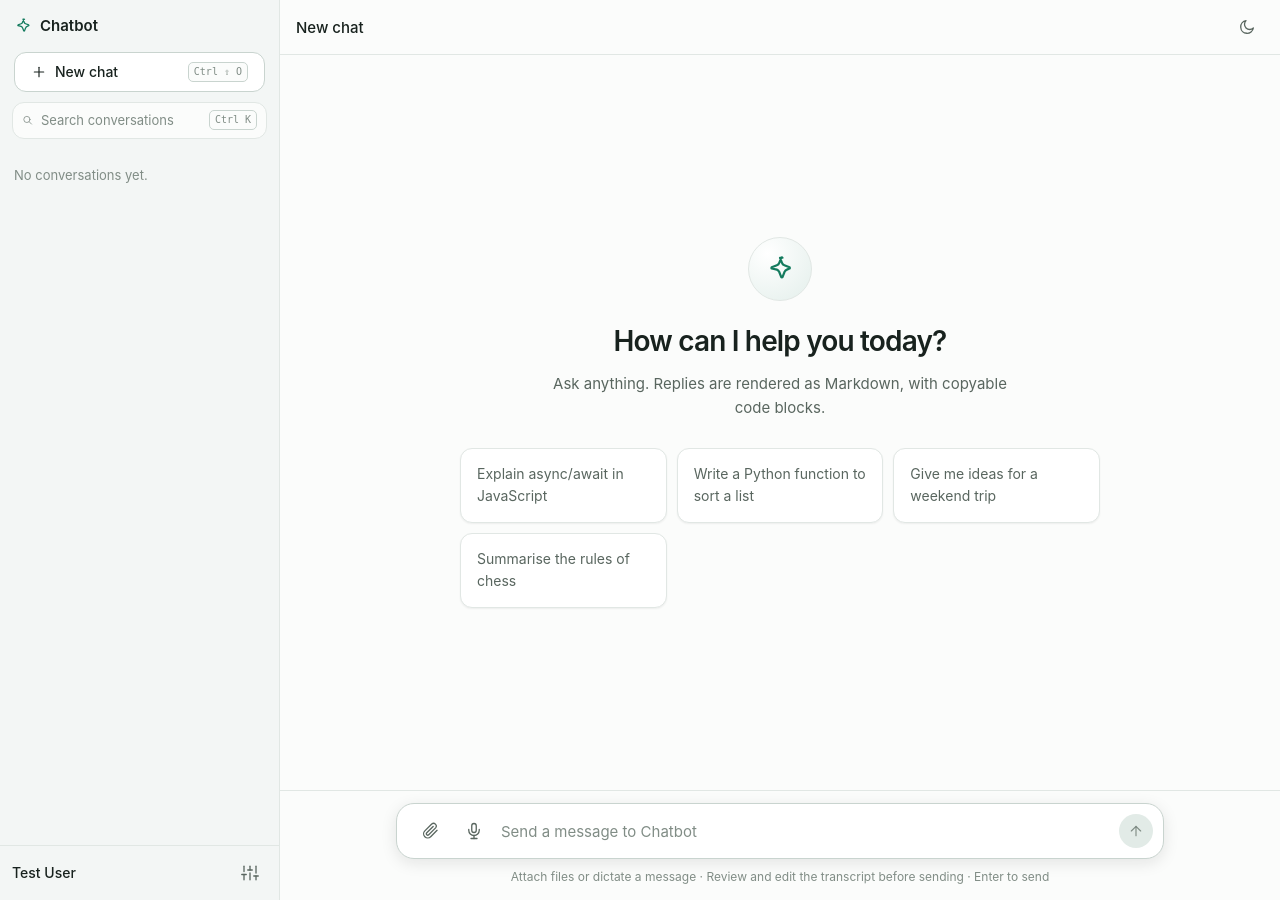
App › surfaces a backend error instead of inventing a reply
This screenshot has width=1280, height=900.
Type "How are you?" into the text box labelled "message" at (805, 832), box x1=501 y1=817 x2=1109 y2=848
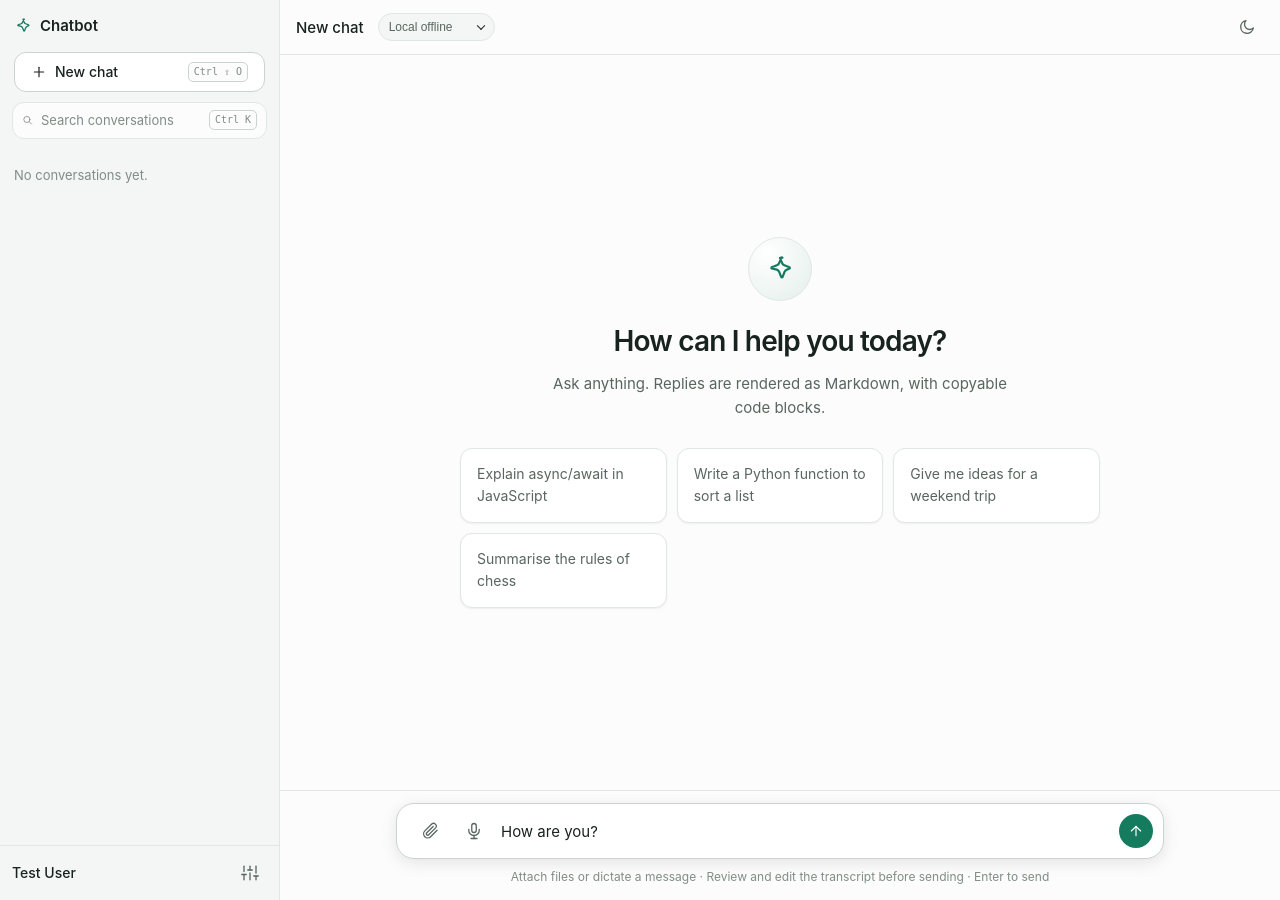
Click the button named "send" at (1136, 831), box x1=1119 y1=814 x2=1153 y2=848
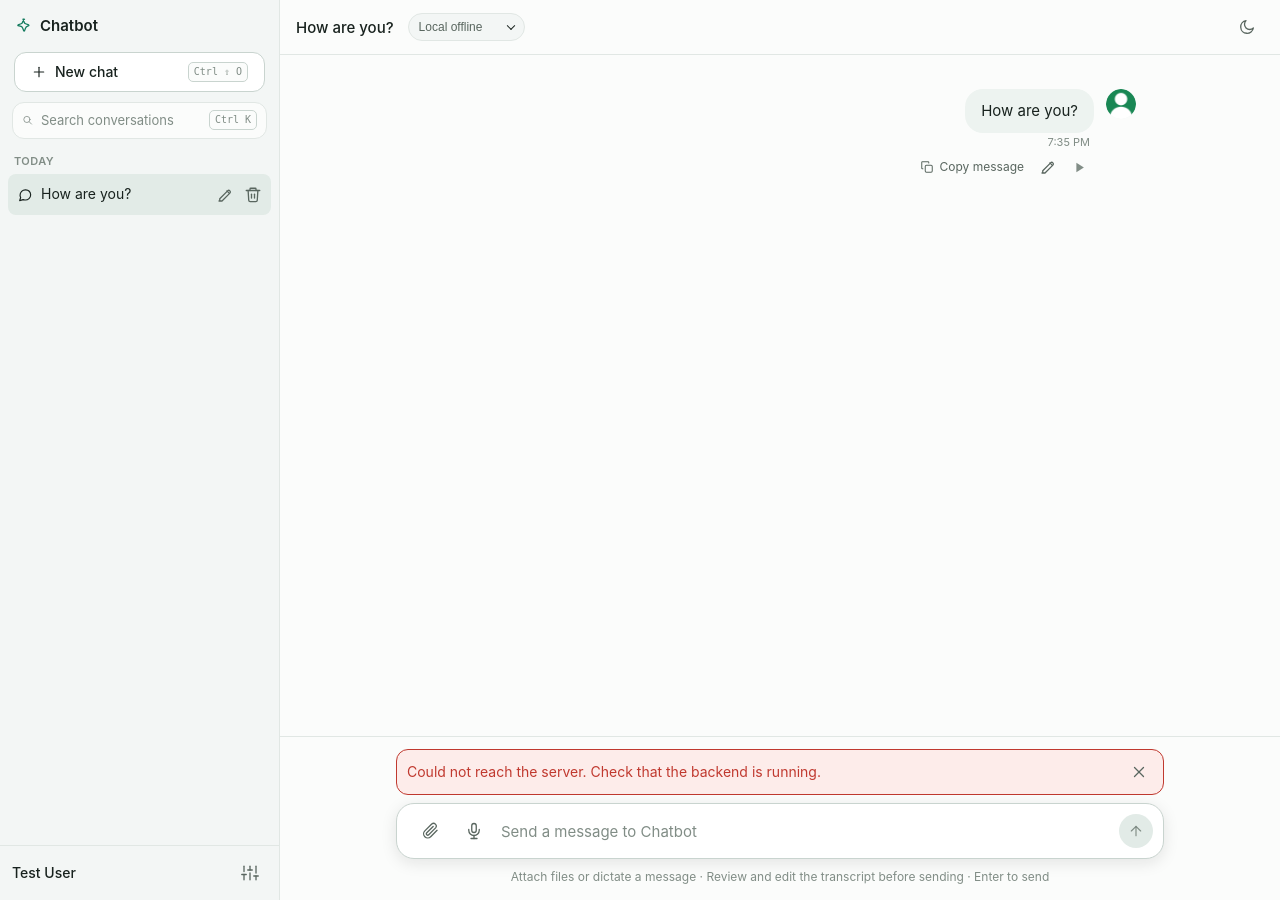
Expected: the message shows "Could not reach the server", x1=407 y1=763 x2=821 y2=780
Expected: the 1st text "How are you?" is shown, x1=981 y1=99 x2=1078 y2=123
